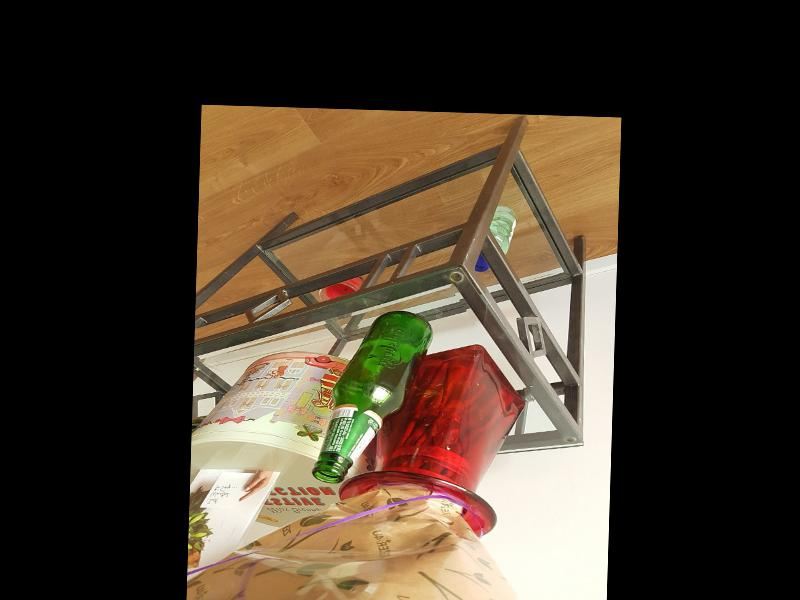Beer: (313, 308, 433, 486)
